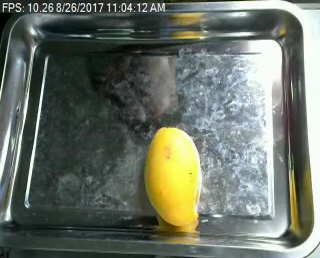Mango: (140, 127, 211, 228)
